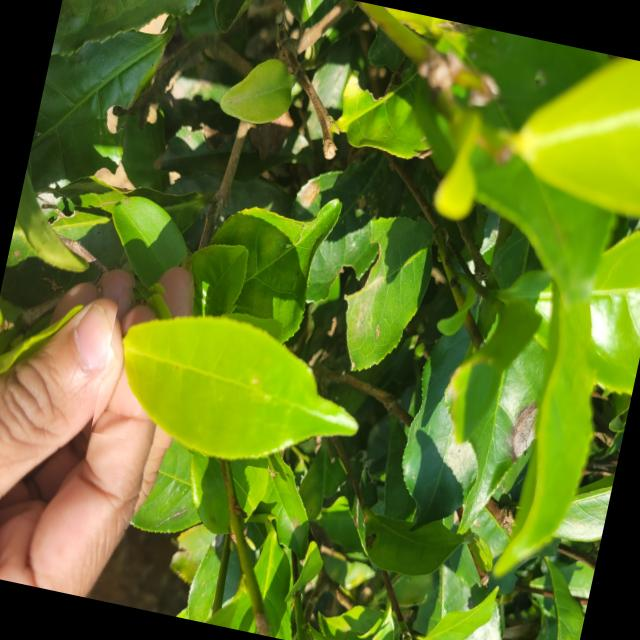Catagory A(1-2 days): (89, 273, 388, 488)
